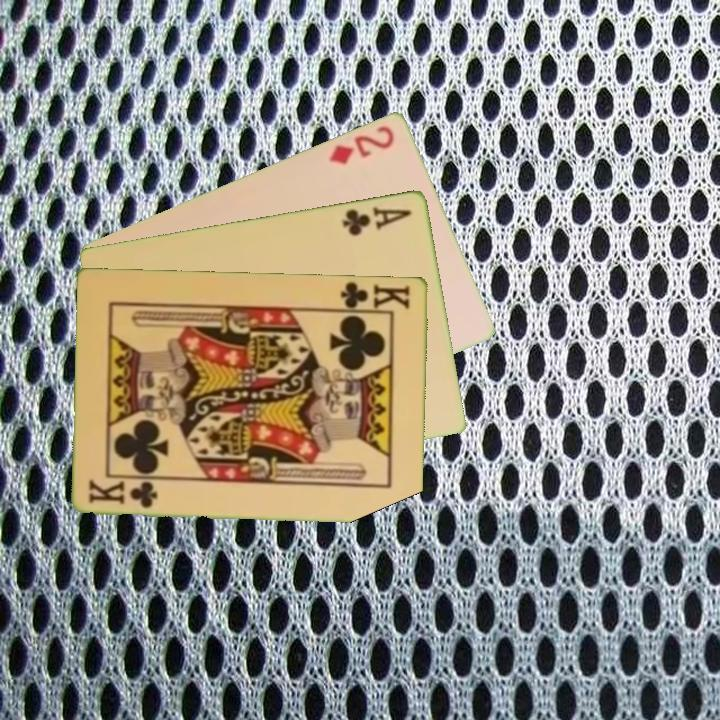2d: (325, 121, 398, 167)
Ac: (339, 202, 416, 239)
Kc: (334, 278, 413, 314), (85, 476, 161, 511)
